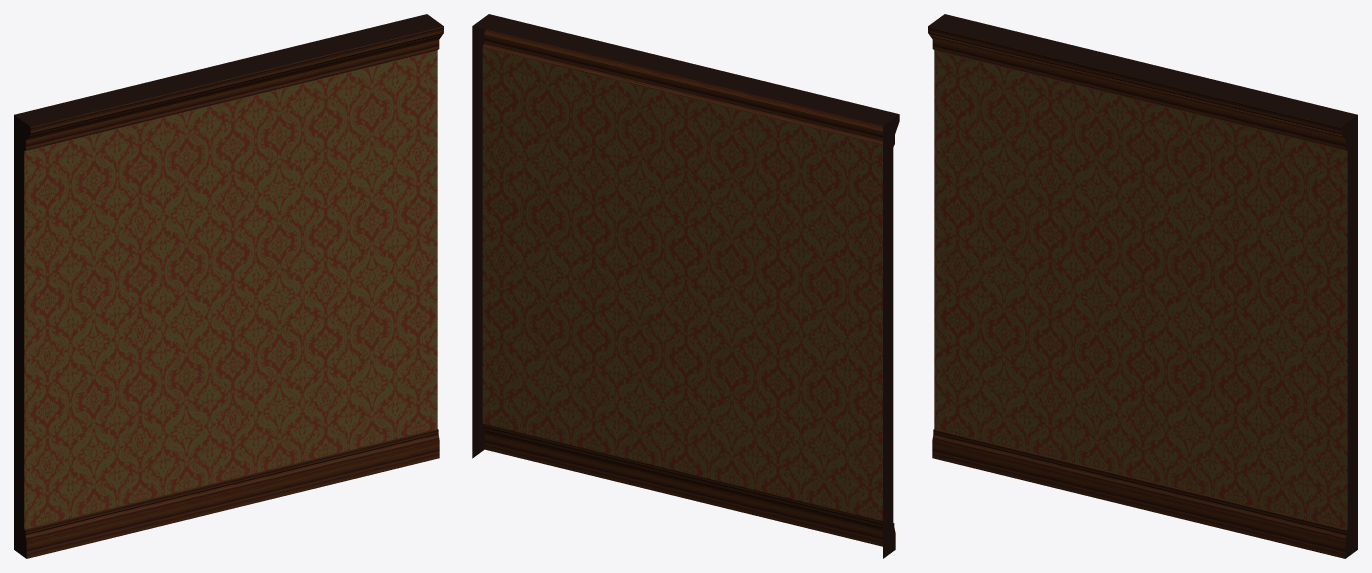
The model's file is Wall_Plain_Med.fbx.
3 views of the same model, side by side, from view 1: azimuth 30°, elevation 25°; view 2: azimuth 150°, elevation 25°; view 3: azimuth 330°, elevation 25° (orthographic).
Parts seen in each view (by area): view 1: WallSmoothLong.001; view 2: WallSmoothLong.001; view 3: WallSmoothLong.001.
Boxes of the visible parts, box(x1,y1,x2,y2) form: WallSmoothLong.001: box(14, 14, 443, 558); WallSmoothLong.001: box(472, 14, 899, 558); WallSmoothLong.001: box(928, 14, 1357, 558).
Size of the model in its own units: 369 by 371 by 25.9.
